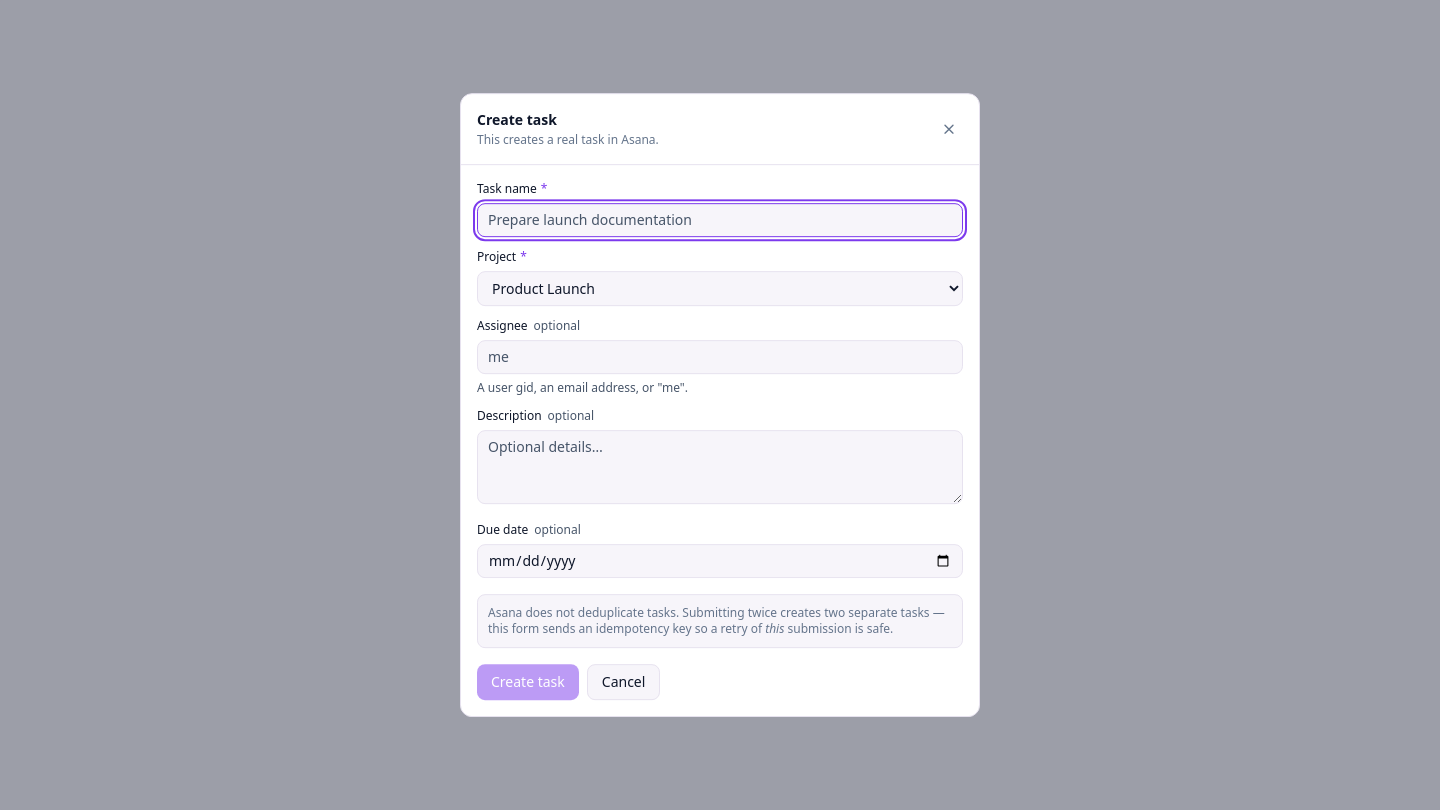
write safety in the UI › shows the created task identity rather than a bare success message
In the field labelled "Task name*": (720, 220) 477,203 -> 963,237, type "New task"
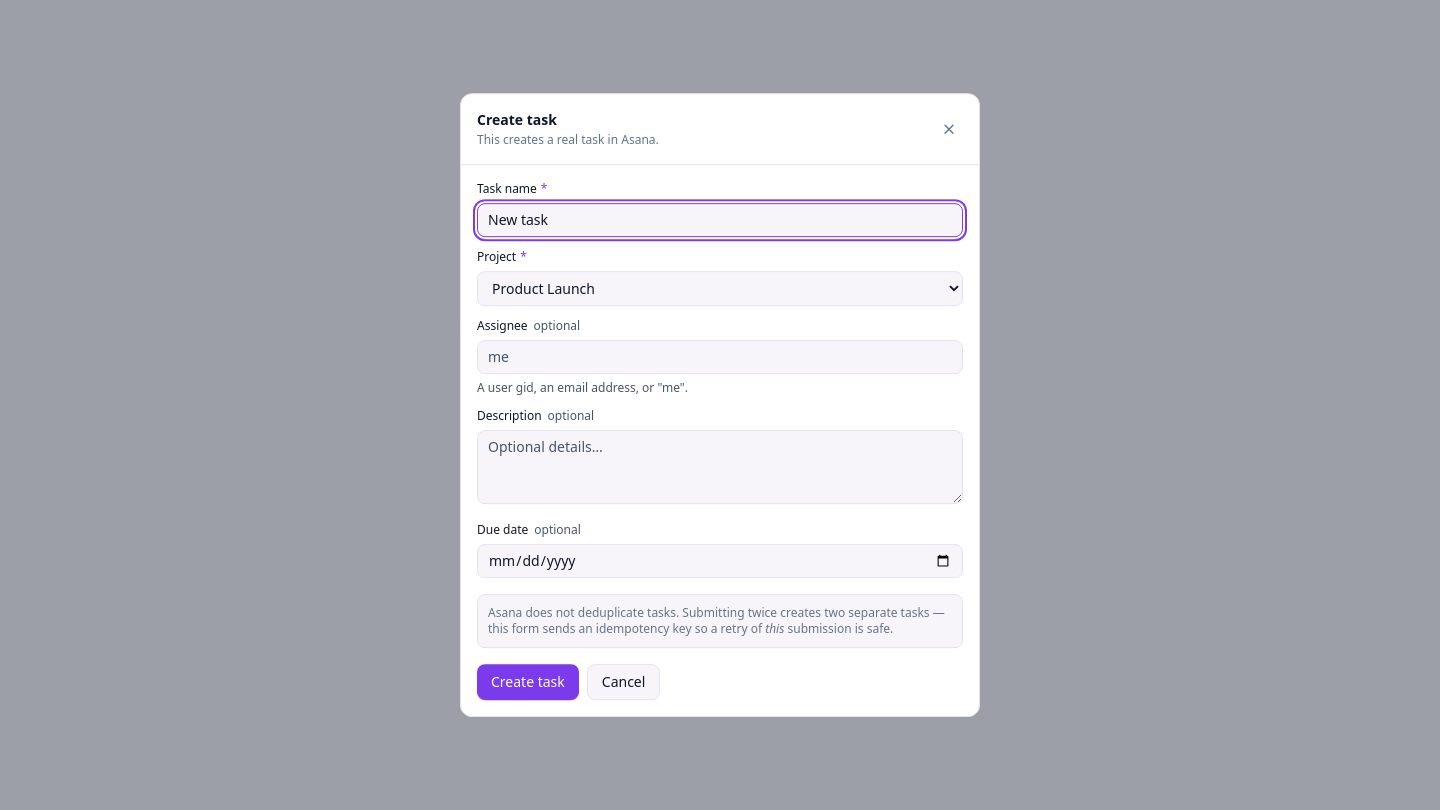
Click the button "Create task": (528, 682) 477,664 -> 579,700
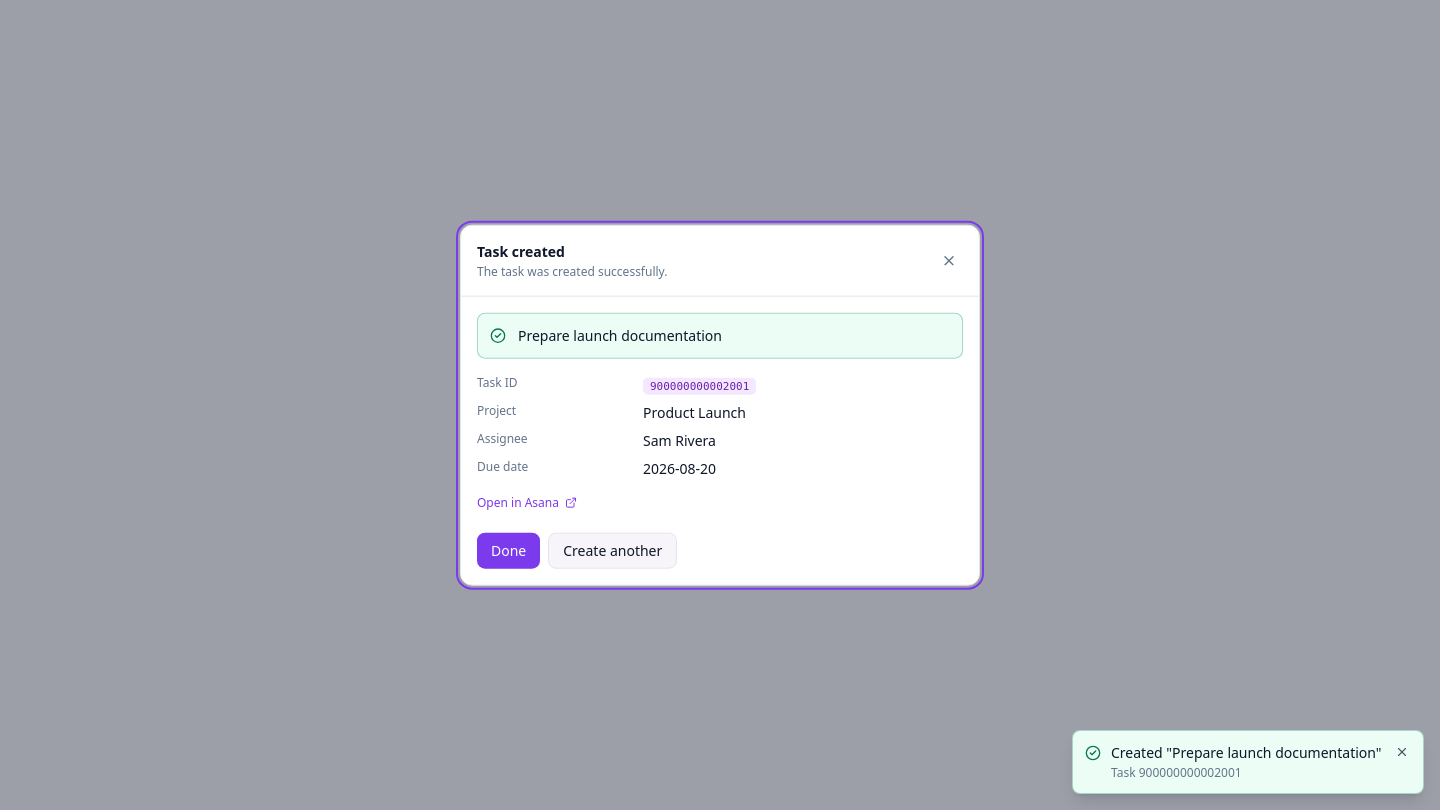
Expected: the heading "Task created" is shown, 477,242 -> 565,261
Expected: the text "900000000002001" is shown, 643,378 -> 756,395
